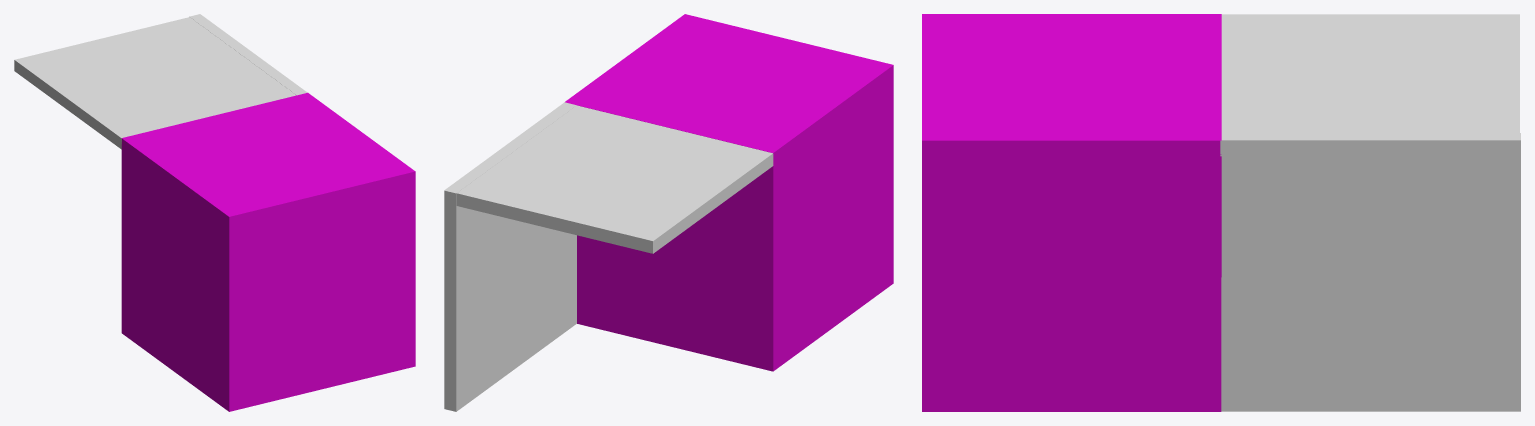
The model's file is angle.fbx.
The picture shows the model from 3 angles, left to right: view 1: azimuth 30°, elevation 25°; view 2: azimuth 150°, elevation 25°; view 3: azimuth 270°, elevation 25°; orthographic projection. The views are drawn at different scales.
Parts seen in each view (by area): view 1: Cube; view 2: Cube; view 3: Cube.
Part boxes in pixels (x1,y1,x2,y2): Cube: [14, 14, 415, 411]; Cube: [444, 14, 893, 411]; Cube: [922, 14, 1520, 411].
Bounding box in the file's own units: 100 × 100 × 200.
